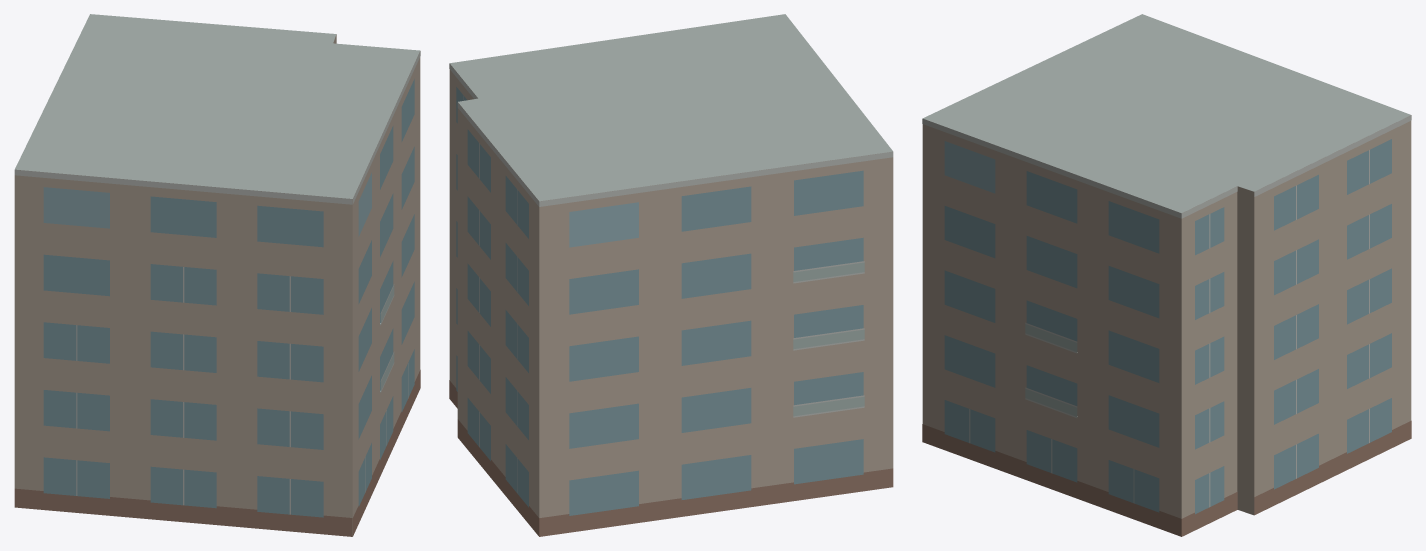
The model's file is survey-upis-32869002.glb.
3 renders of one model, left to right at view 1: azimuth 30°, elevation 25°; view 2: azimuth 150°, elevation 25°; view 3: azimuth 270°, elevation 25°, orthographic. The views are drawn at different scales.
Visible parts, largest first — view 1: survey-upis-32869002.tmp; view 2: survey-upis-32869002.tmp; view 3: survey-upis-32869002.tmp.
Boxes of the visible parts, bbox=[...] form: survey-upis-32869002.tmp: bbox=[14, 14, 420, 536]; survey-upis-32869002.tmp: bbox=[449, 14, 893, 536]; survey-upis-32869002.tmp: bbox=[922, 14, 1411, 536].
Size of the model in its own units: 19.03 by 14.4 by 19.73.
